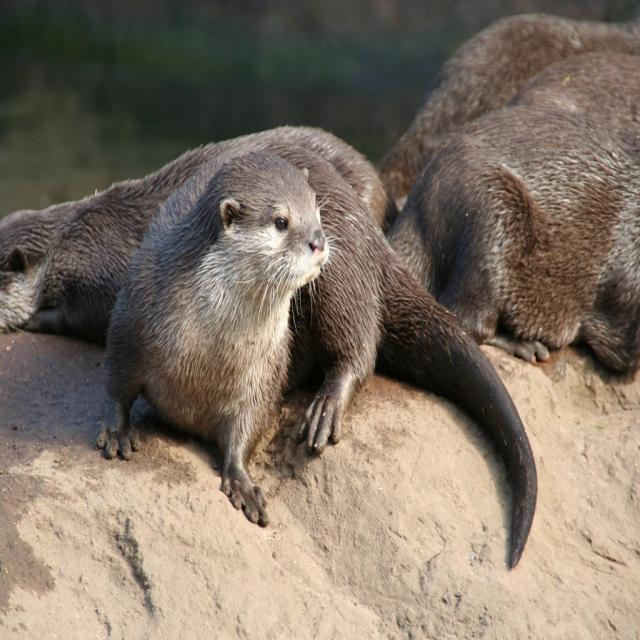otter: (1, 143, 540, 570), (97, 152, 332, 528), (390, 103, 640, 366)
